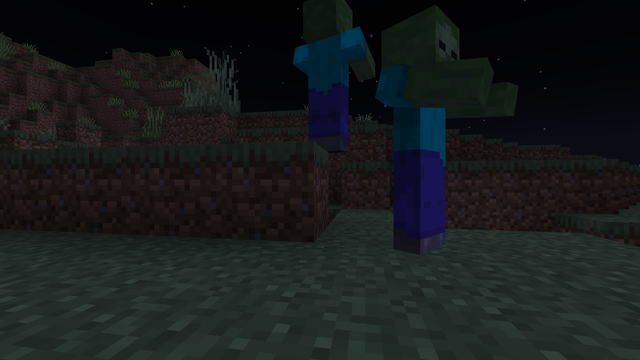zombies: (384, 11, 467, 258), (301, 0, 350, 154)
